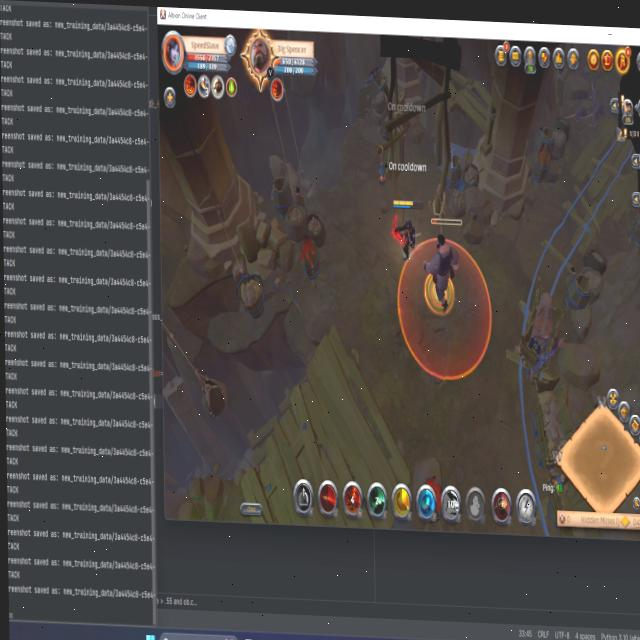ore: (420, 213, 469, 312)
red: (391, 195, 425, 267)
silver: (391, 235, 498, 385)
